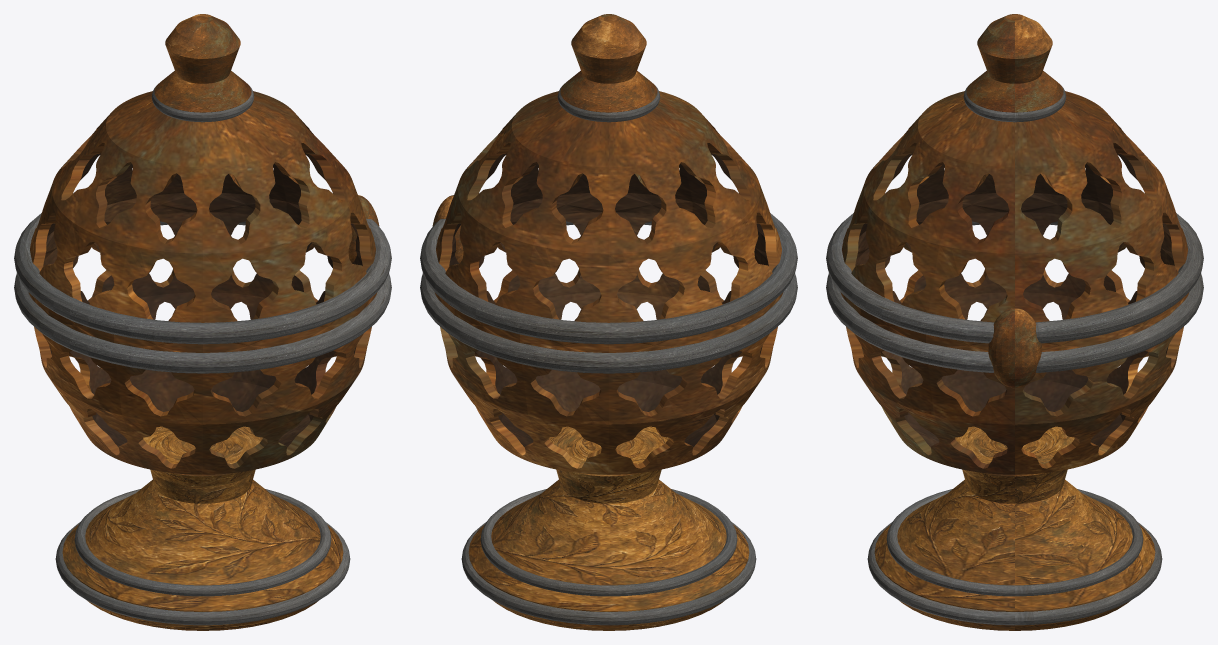
File: censer_t2.obj
3 views of the same model, side by side, from view 1: azimuth 30°, elevation 25°; view 2: azimuth 150°, elevation 25°; view 3: azimuth 270°, elevation 25° (orthographic).
Visible parts, largest first — view 1: shell, foot, rim1, rim0, lid_knob, foot_lower_trim, foot_upper_trim, knob_trim; view 2: shell, foot, rim1, rim0, lid_knob, foot_lower_trim, foot_upper_trim, knob_trim; view 3: shell, foot, rim1, rim0, lid_knob, foot_lower_trim, foot_upper_trim, hinge, knob_trim.
Boxes of the visible parts, x1,y1,x2,y2 form: shell: (28,91,377,476); foot: (62,426,343,630); rim1: (14,213,391,344); rim0: (14,221,391,373); lid_knob: (154,14,251,112); foot_lower_trim: (55,522,350,625); foot_upper_trim: (74,489,331,596); knob_trim: (151,85,254,122); shell: (434,91,783,476); foot: (468,426,749,630); rim1: (420,213,797,344); rim0: (420,221,797,373); lid_knob: (560,14,657,112); foot_lower_trim: (461,522,756,625); foot_upper_trim: (480,489,737,596); knob_trim: (557,85,660,122); shell: (840,91,1189,476); foot: (874,426,1155,630); rim1: (826,213,1203,343); rim0: (826,221,1203,372); lid_knob: (966,14,1063,112); foot_lower_trim: (867,522,1162,625); foot_upper_trim: (886,489,1143,596); hinge: (988,308,1041,388); knob_trim: (963,85,1066,122).
Size of the model in its own units: 70.72 by 112 by 68.77.
Materials: 4 (4 with a texture image).
